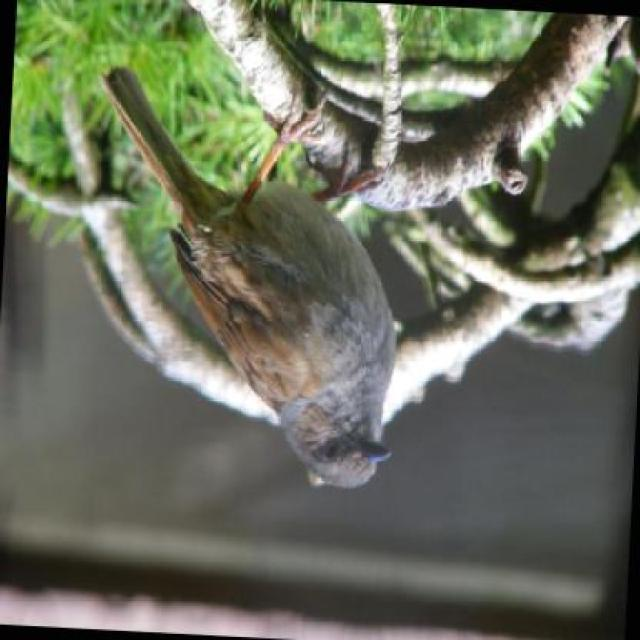sparrow: (162, 163, 404, 495)
